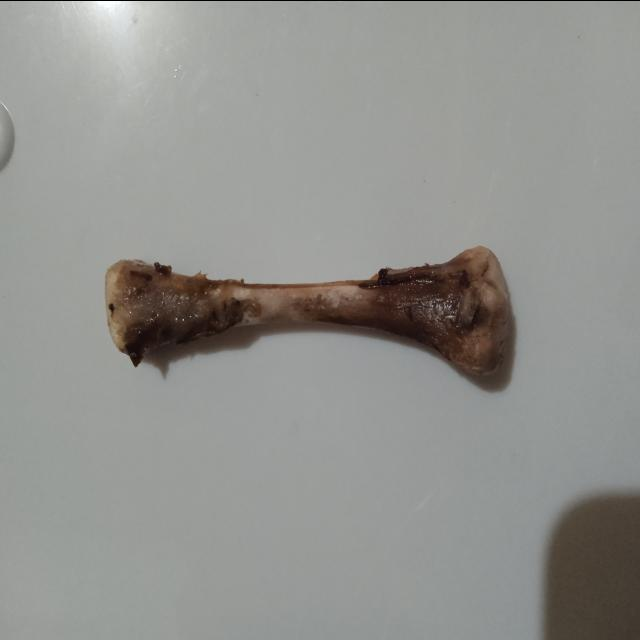bone: (99, 238, 518, 386)
